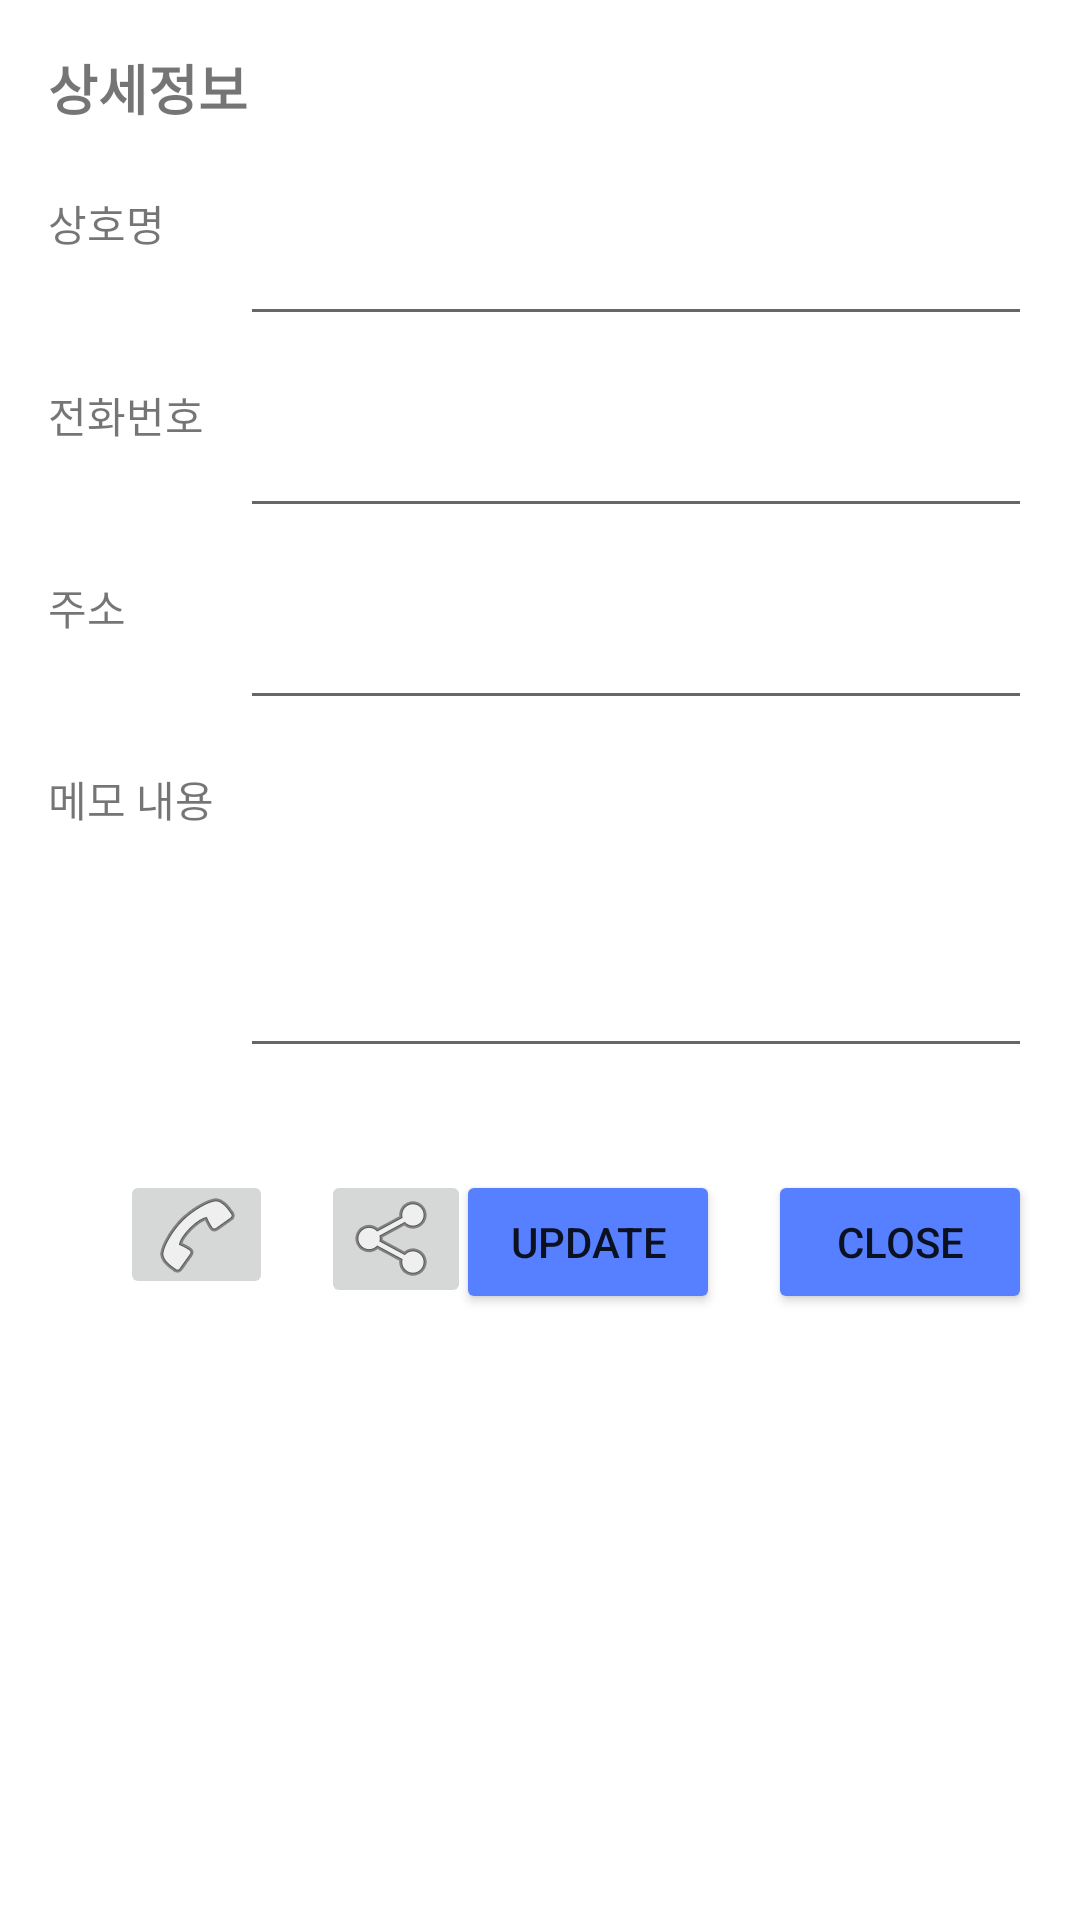

Icon click points for this 1080w x 1920h phone screenshot, format (x=x, y=y):
call: (x=196, y=1234)
share: (x=396, y=1239)
